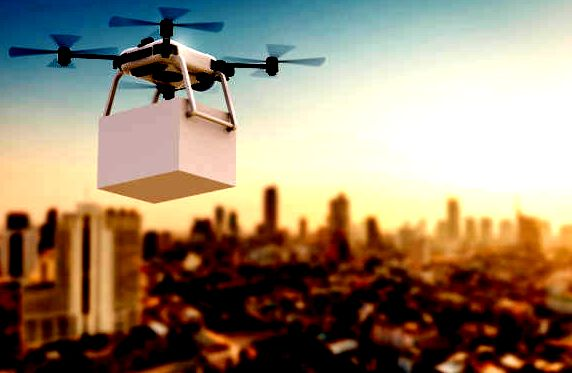Drone: (6, 3, 331, 100)
